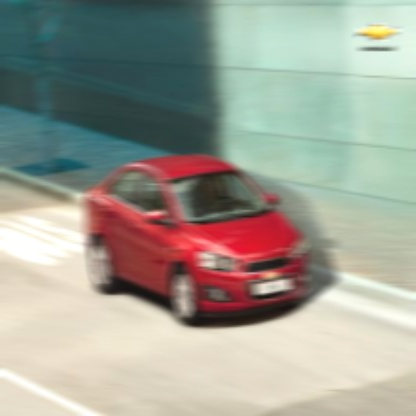Vehicle: (85, 152, 309, 326)
